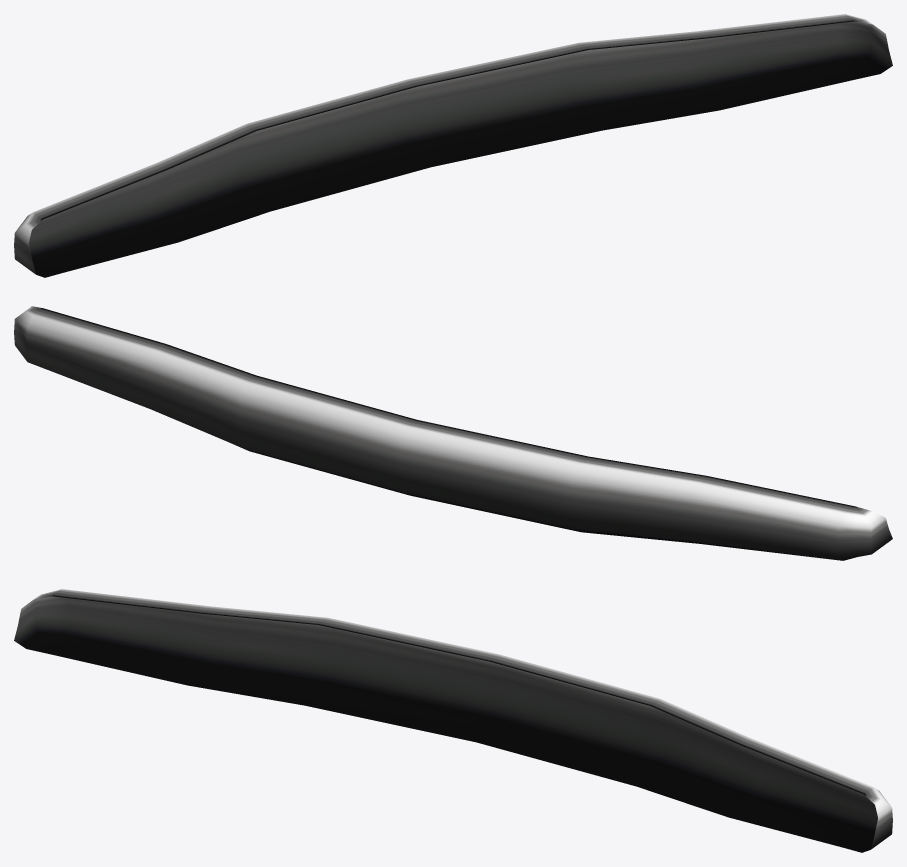
File: fbmp_lr_slv1.glb
3 renders of one model, top to bottom at view 1: azimuth 30°, elevation 25°; view 2: azimuth 150°, elevation 25°; view 3: azimuth 330°, elevation 25°, orthographic.
Parts seen in each view (by area): view 1: fbmp_lr_slv1; view 2: fbmp_lr_slv1; view 3: fbmp_lr_slv1.
Boxes of the visible parts, <box> form: fbmp_lr_slv1: <box>14,14,892,277</box>; fbmp_lr_slv1: <box>14,306,892,560</box>; fbmp_lr_slv1: <box>14,589,892,852</box>.
Bounding box in the file's own units: 2.2 × 0.1731 × 0.288.
1 material, 1 textured.
